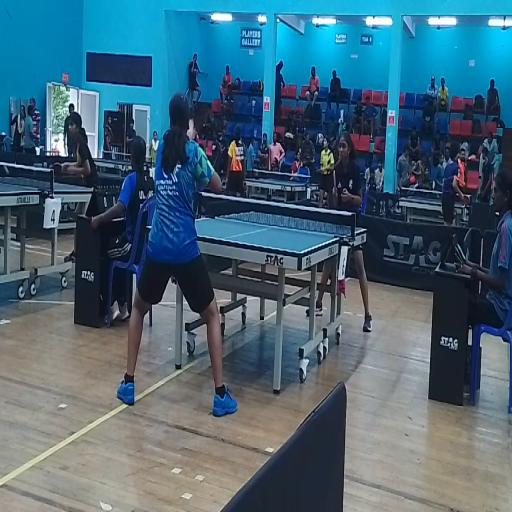ball: (188, 121, 195, 136)
